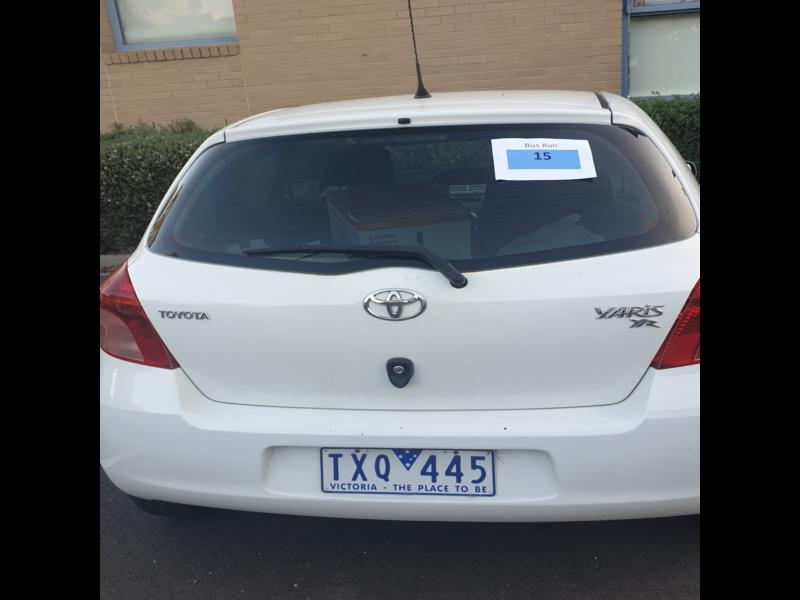BusRun: (504, 147, 583, 171)
PlateNo: (321, 445, 496, 497)
